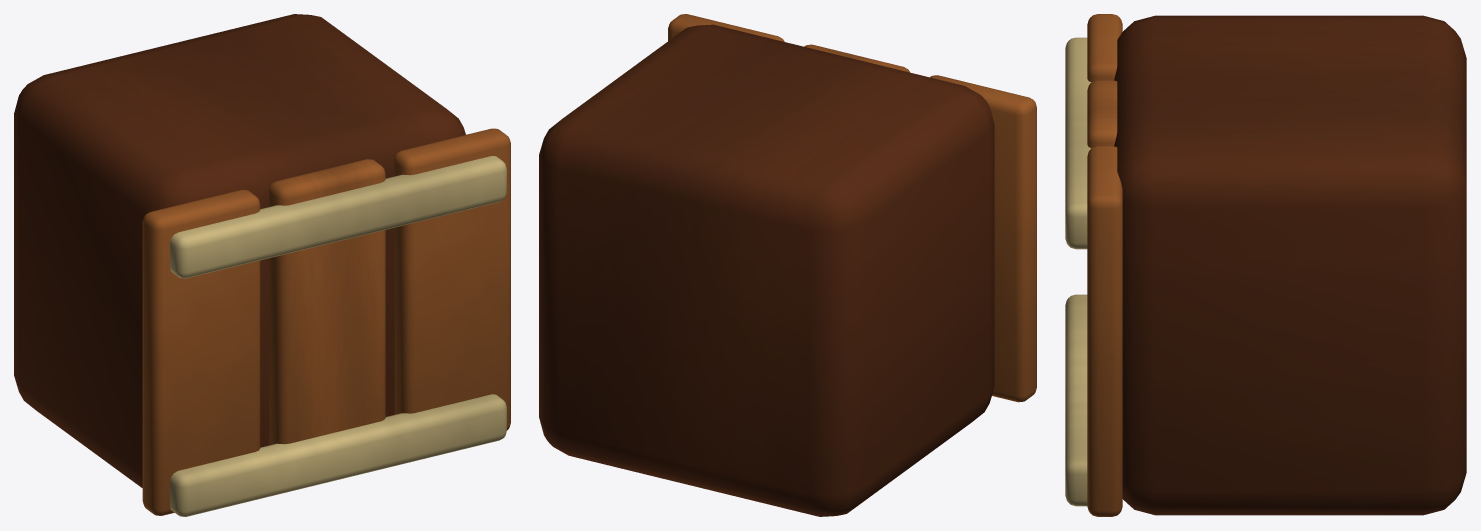
File: Crate.fbx
3 views of the same model, side by side, from view 1: azimuth 30°, elevation 25°; view 2: azimuth 150°, elevation 25°; view 3: azimuth 270°, elevation 25° (orthographic). The views are drawn at different scales.
Parts seen in each view (by area): view 1: Crate; view 2: Crate; view 3: Crate.
Boxes of the visible parts, x1,y1,x2,y2 form: Crate: [14, 14, 510, 516]; Crate: [539, 14, 1036, 516]; Crate: [1065, 14, 1466, 516].
Bounding box in the file's own units: 63 × 56 × 56.6.
1 material, 1 textured.
